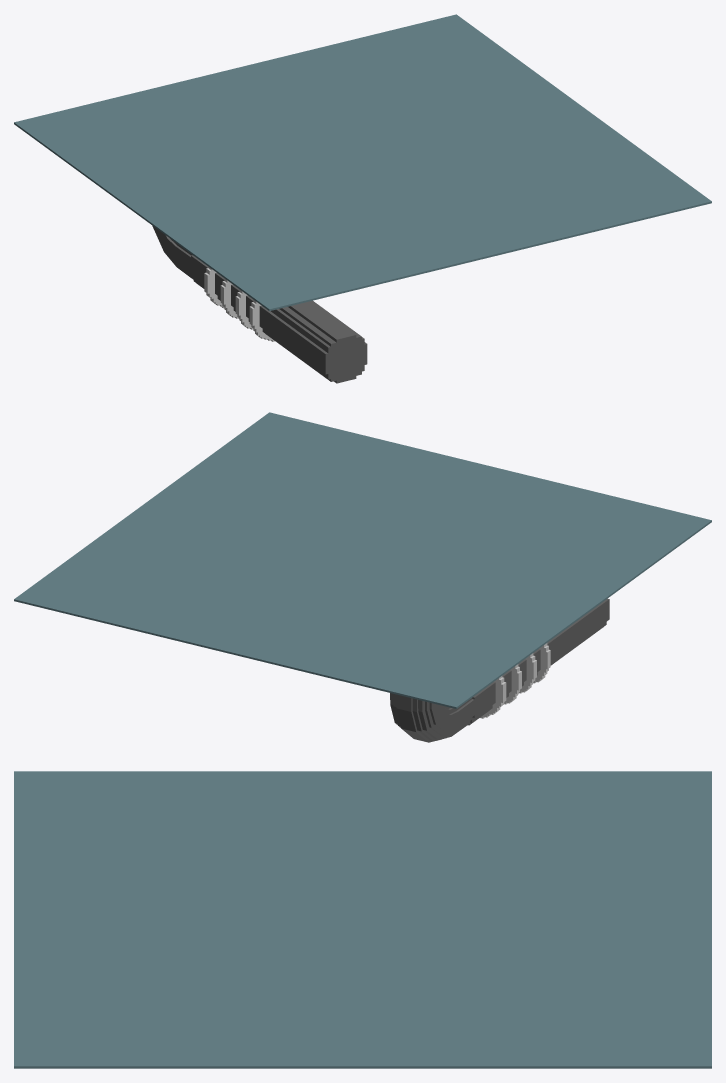
Rendered from Pipestest2.fbx.
3 views of the same model, one above another, from view 1: azimuth 30°, elevation 25°; view 2: azimuth 150°, elevation 25°; view 3: azimuth 270°, elevation 25° (orthographic). The views are drawn at different scales.
Visible parts, largest first — view 1: Ceiling, NewPipe, Turn Pipe; view 2: Ceiling, Turn Pipe, NewPipe; view 3: Ceiling.
Part boxes in pixels (x1,y1,x2,y2): Ceiling: [14, 14, 711, 310]; NewPipe: [191, 255, 367, 383]; Turn Pipe: [152, 226, 193, 279]; Ceiling: [14, 412, 711, 708]; Turn Pipe: [390, 693, 474, 742]; NewPipe: [468, 598, 609, 725]; Ceiling: [14, 771, 711, 1068].
Bounding box in the file's own units: 10000 × 2601 × 10000.
